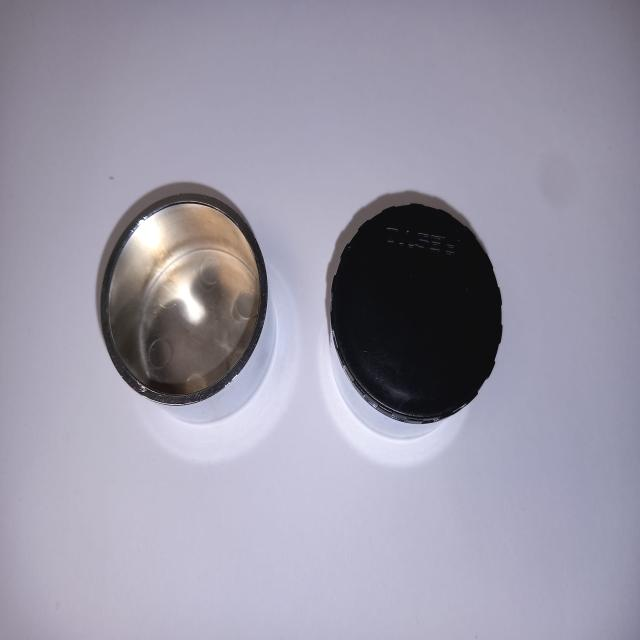NoLid: (79, 184, 284, 427)
Workpiece: (313, 193, 514, 456)
